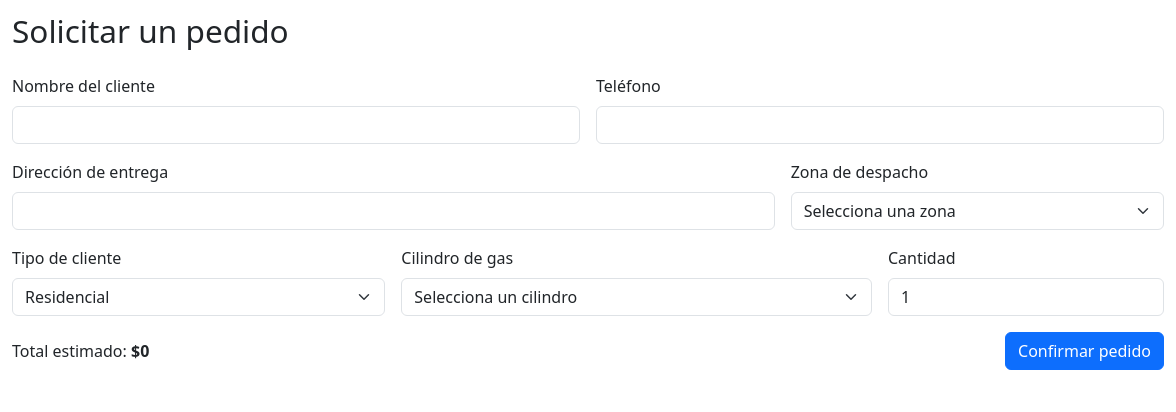
FormularioNuevoPedido › muestra un error junto al campo y no envía el pedido si el teléfono es texto
Type "Ana Pérez" into the field labelled "Nombre del cliente".
click(296, 125); type("Ana Pérez")  # box [12, 106, 580, 144]
Type "hola" into the field labelled "Teléfono".
click(880, 125); type("hola")  # box [596, 106, 1164, 144]
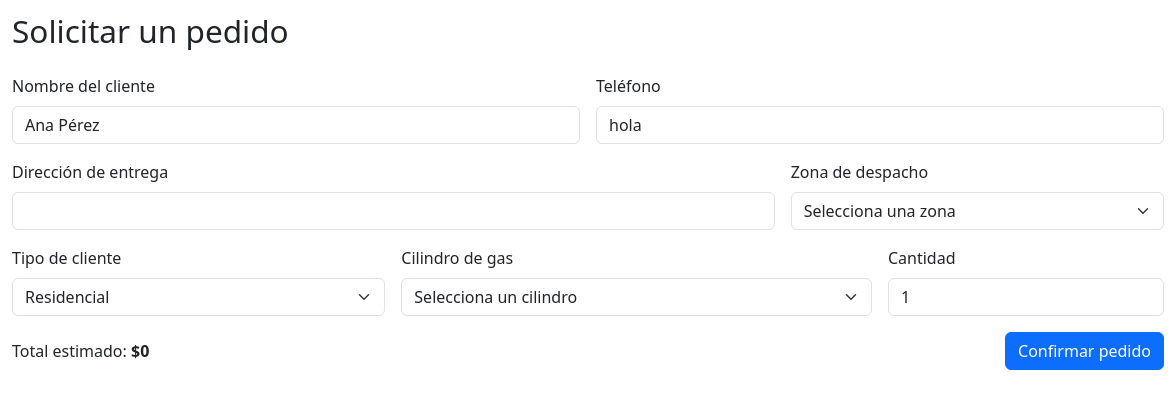
Type "Av. Libertad 100, Chillán" into the field labelled "Dirección de entrega".
click(393, 211); type("Av. Libertad 100, Chillán")  # box [12, 192, 775, 230]
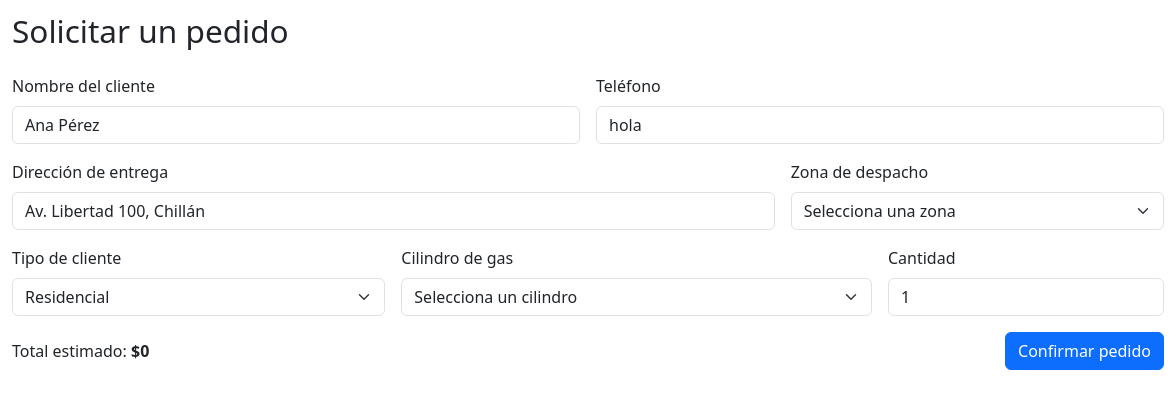
Select "Zona Centro" in the dropdown labelled "Zona de despacho" at point(977, 211), box [791, 192, 1164, 230]
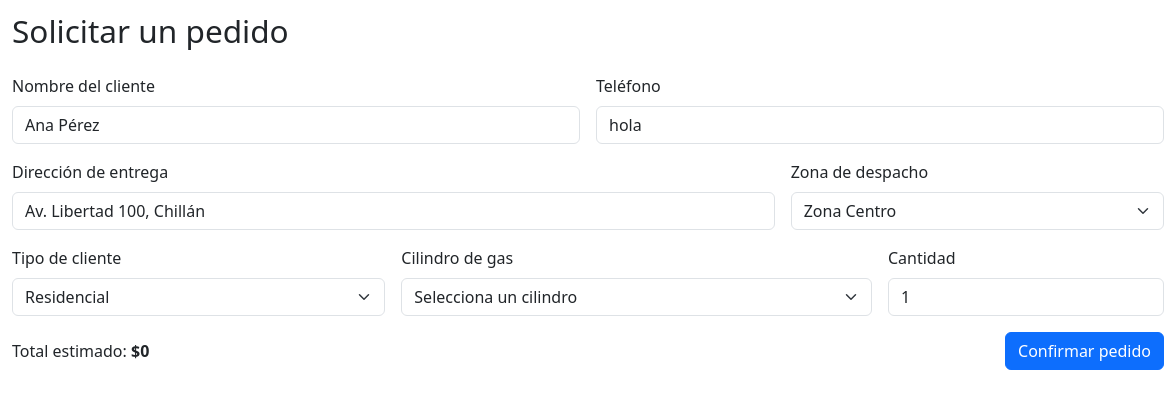
Select "Cilindro GLP 11 kg" in the dropdown labelled "Cilindro de gas" at point(637, 297), box [401, 278, 872, 316]
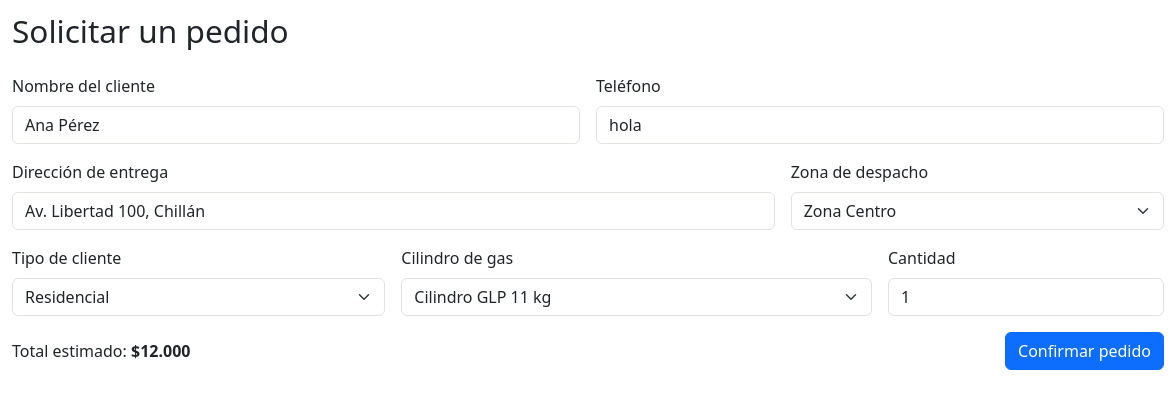
Replace the text in the number field labelled "Cantidad" with "2" at point(1026, 297), box [888, 278, 1164, 316]
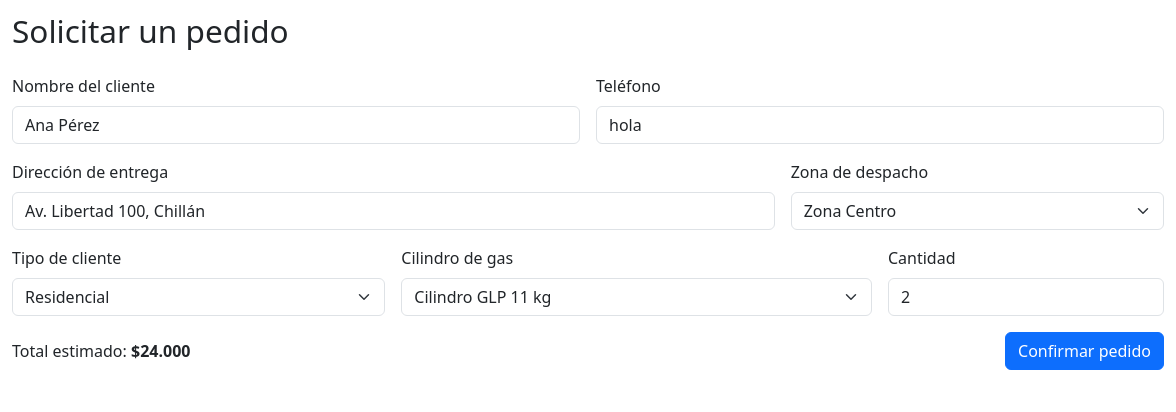
Click the button "Confirmar pedido".
click(1084, 351)  # box [1005, 332, 1164, 370]
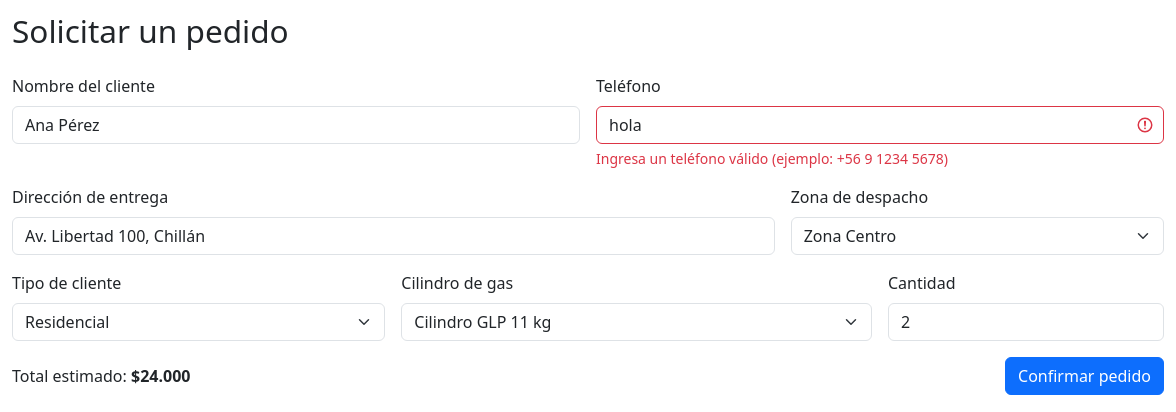
Expected: the text "Ingresa un teléfono válido (ejemplo: +56 9 1234 5678)" is shown, [596, 149, 948, 168]
